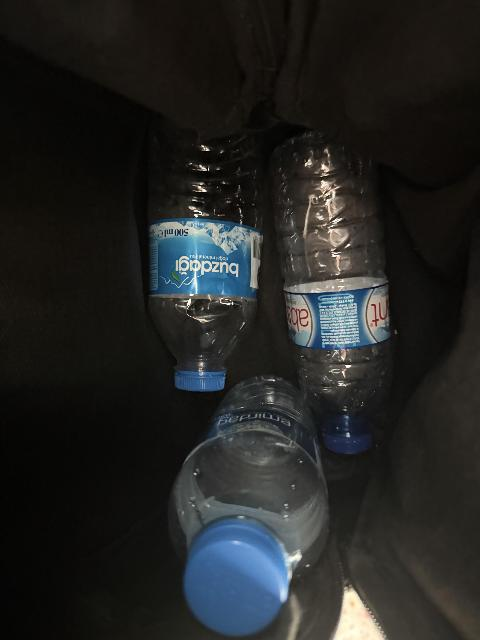Plastik: (169, 383, 332, 638), (272, 136, 401, 447), (152, 132, 263, 390)
